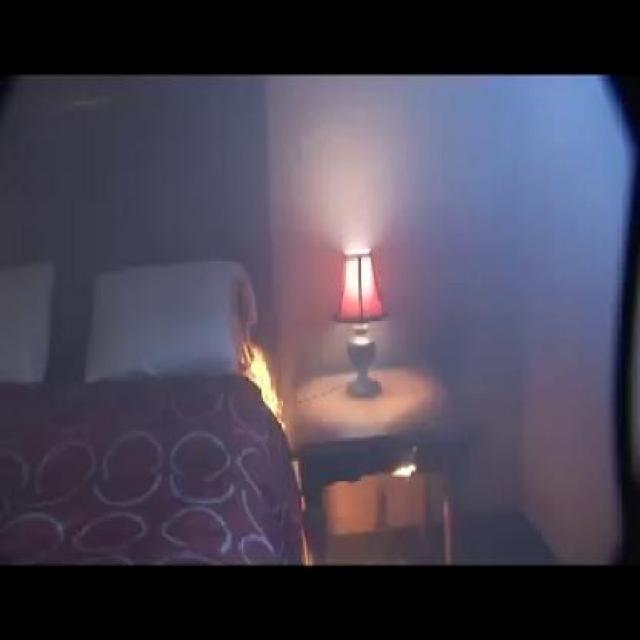fire: (236, 338, 315, 458)
